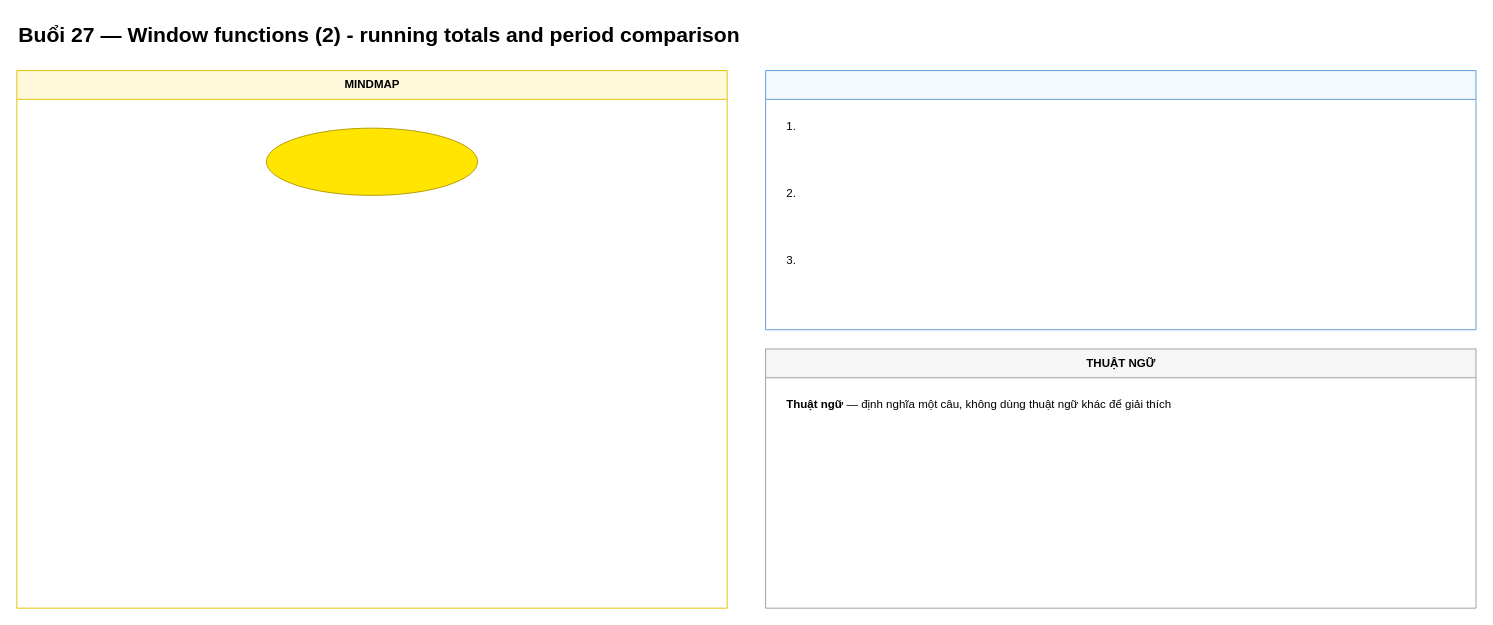
Some shapes in this 1493 by 625 pixel diagram are drawn without their labels. Each missing label, with the box of its shape:
KEY TAKEAWAY — ba điều phải nhớ: (765, 70, 1476, 330)
Window functions (2) - running totals and period comparison: (265, 127, 478, 195)
